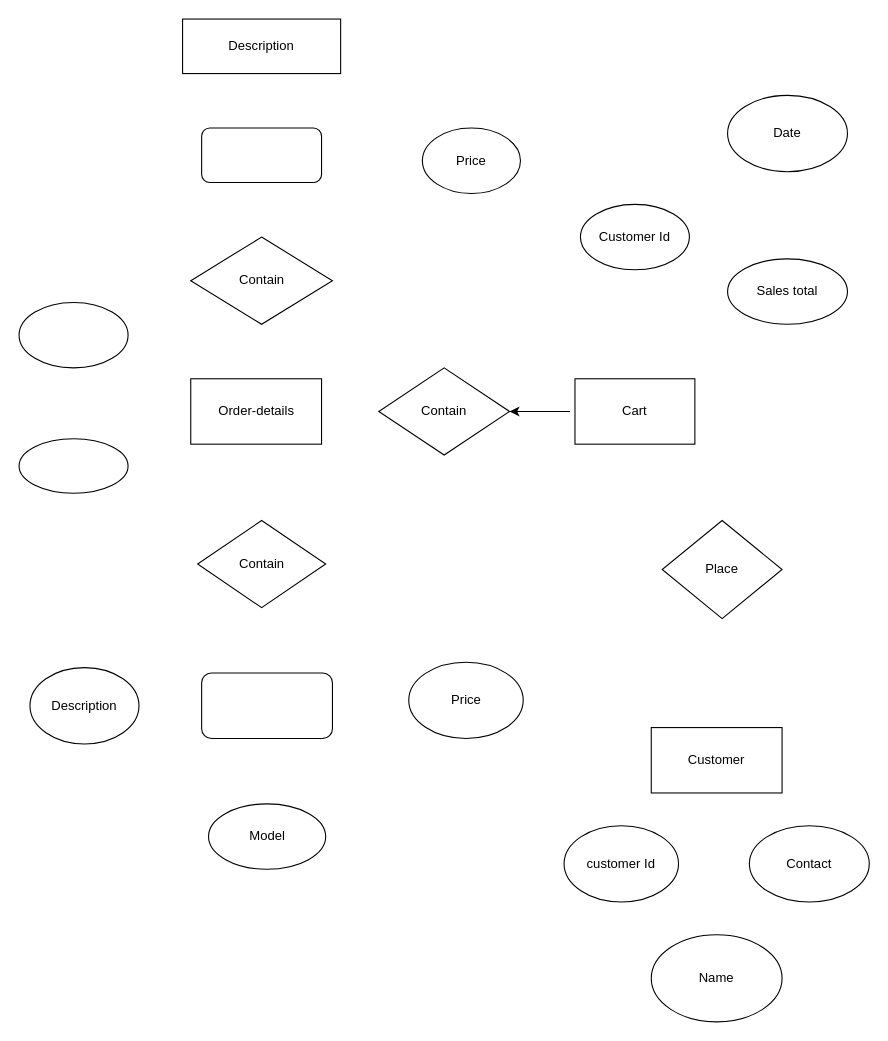
The diagram is 888 pixels wide and 1041 high, and some of its shapes have lost their labels. The shapes that lost their labels are listed below. From the top down, each one's centre as x and y in pixels, then its label:
At [261,155]: "Extra".
At [73,465]: "Sales Id".
At [266,705]: "Product".
